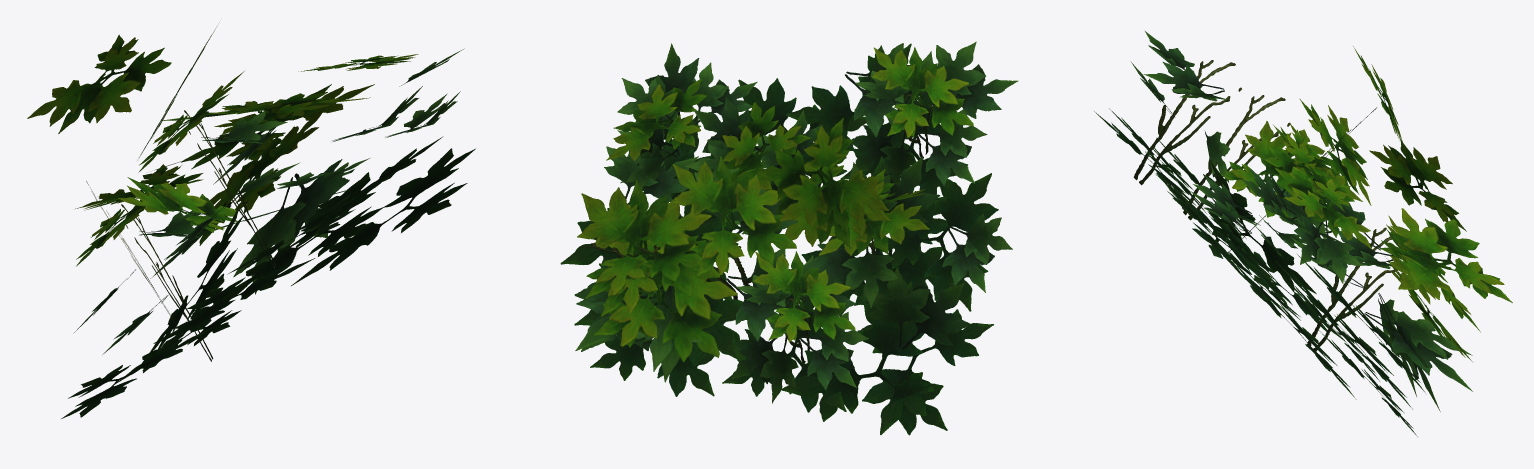
File: niuqushugen_01_a.FBX
3 renders of one model, left to right at view 1: azimuth 30°, elevation 25°; view 2: azimuth 150°, elevation 25°; view 3: azimuth 270°, elevation 25°, orthographic. The views are drawn at different scales.
Parts seen in each view (by area): view 1: niuqushugen_01_a; view 2: niuqushugen_01_a; view 3: niuqushugen_01_a.
Part boxes in pixels (bbox=[...]): niuqushugen_01_a: bbox=[27, 22, 475, 418]; niuqushugen_01_a: bbox=[560, 41, 1018, 435]; niuqushugen_01_a: bbox=[1094, 31, 1512, 436].
Size of the model in its own units: 7.17 by 6.15 by 6.71.
